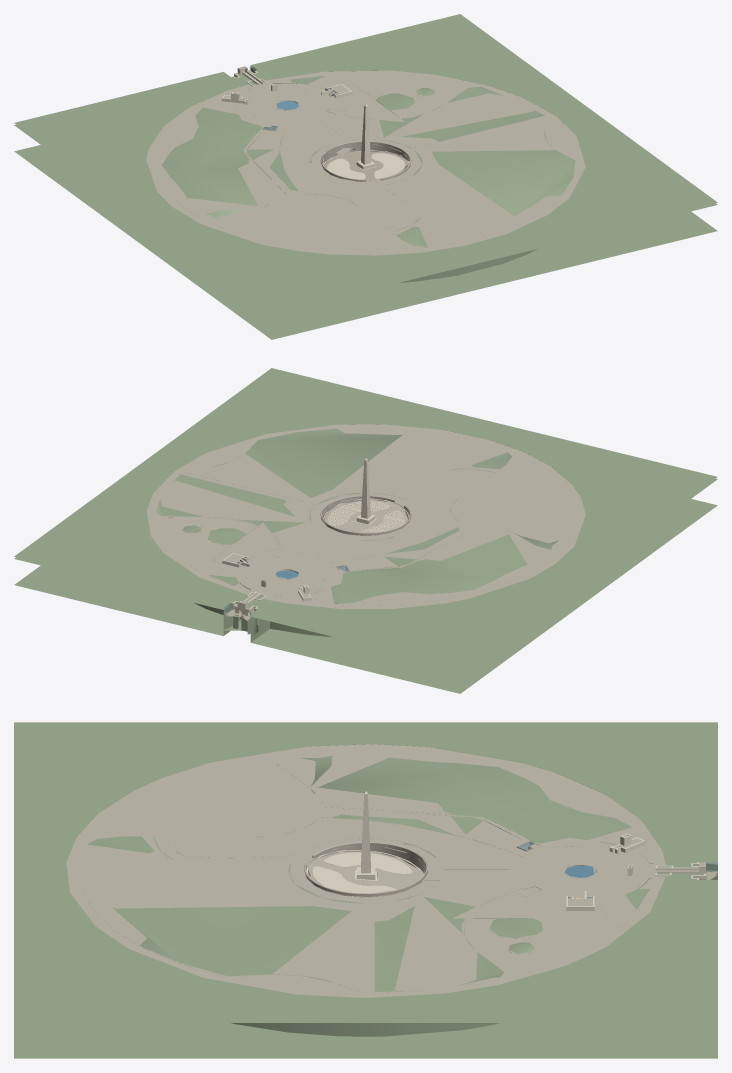
The model's file is museum-of-emotions.glb.
The picture shows the model from 3 angles, top to bottom: view 1: azimuth 30°, elevation 25°; view 2: azimuth 150°, elevation 25°; view 3: azimuth 270°, elevation 25°; orthographic projection. The views are drawn at different scales.
Parts seen in each view (by area): view 1: ground:Landscape, project:Stone, ground:Stone, project:Plaster; view 2: ground:Landscape, project:Stone, ground:Stone, project:Plaster; view 3: ground:Landscape, project:Stone, ground:Stone, project:Plaster.
Boxes of the visible parts, box(x1,y1,x2,y2) form: ground:Landscape: box(14, 14, 717, 339); project:Stone: box(146, 66, 585, 255); ground:Stone: box(155, 73, 576, 247); project:Plaster: box(221, 68, 408, 179); ground:Landscape: box(14, 368, 717, 693); project:Stone: box(146, 424, 585, 621); ground:Stone: box(156, 427, 571, 605); project:Plaster: box(222, 458, 409, 624); ground:Landscape: box(14, 722, 717, 1058); project:Stone: box(66, 744, 717, 997); ground:Stone: box(78, 749, 649, 992); project:Plaster: box(306, 791, 705, 910).
Size of the model in its own units: 250 by 46.63 by 250.
